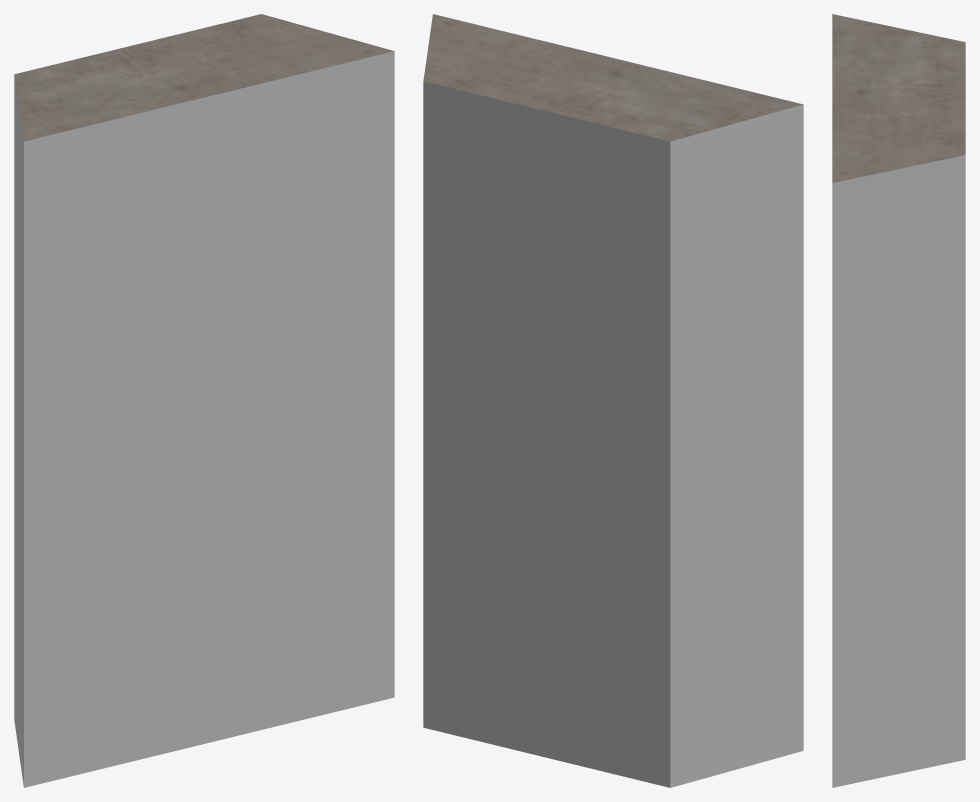
The model's file is wallA_detail.dae.
3 views of the same model, side by side, from view 1: azimuth 30°, elevation 25°; view 2: azimuth 150°, elevation 25°; view 3: azimuth 270°, elevation 25° (orthographic). The views are drawn at different scales.
Visible parts, largest first — view 1: wallA_detail; view 2: wallA_detail; view 3: wallA_detail.
Part boxes in pixels (x1=…): wallA_detail: x1=14, y1=14, x2=394, y2=787; wallA_detail: x1=423, y1=14, x2=803, y2=787; wallA_detail: x1=832, y1=14, x2=965, y2=787.
Bounding box in the file's own units: 0.6 × 1 × 0.2.
